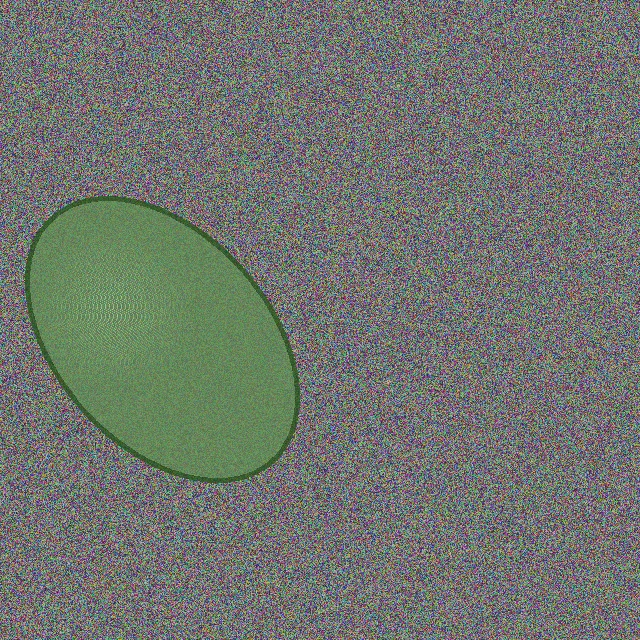lens: (28, 198, 296, 480)
